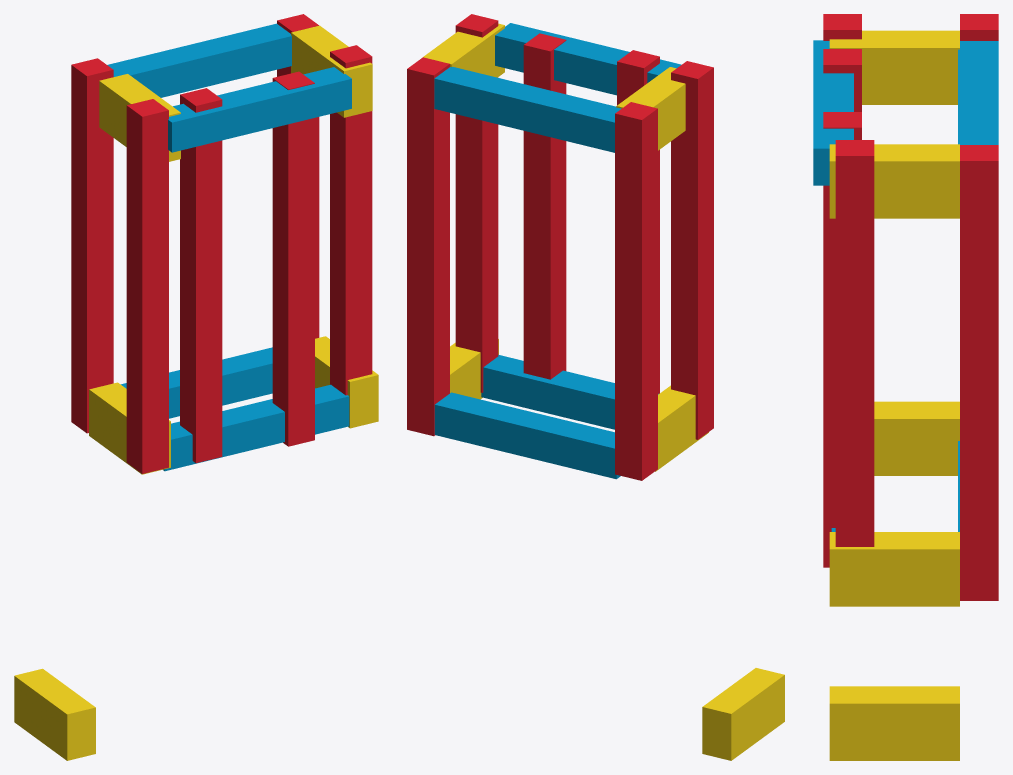
Rendered from tinker.obj.
The picture shows the model from 3 angles, left to right: view 1: azimuth 30°, elevation 25°; view 2: azimuth 150°, elevation 25°; view 3: azimuth 270°, elevation 25°; orthographic projection. The views are drawn at different scales.
Visible parts, largest first — view 1: group_0_15277357, group_0_40919, group_0_16768282; view 2: group_0_15277357, group_0_40919, group_0_16768282; view 3: group_0_15277357, group_0_16768282, group_0_40919.
Part boxes in pixels (x1,y1,x2,y2): group_0_15277357: [71, 14, 372, 473]; group_0_40919: [107, 23, 351, 471]; group_0_16768282: [14, 25, 378, 760]; group_0_15277357: [407, 14, 713, 480]; group_0_40919: [434, 23, 681, 479]; group_0_16768282: [423, 23, 784, 760]; group_0_15277357: [823, 14, 998, 600]; group_0_16768282: [829, 30, 959, 760]; group_0_40919: [813, 40, 998, 531].
Size of the model in its own units: 217 by 418 by 91.
